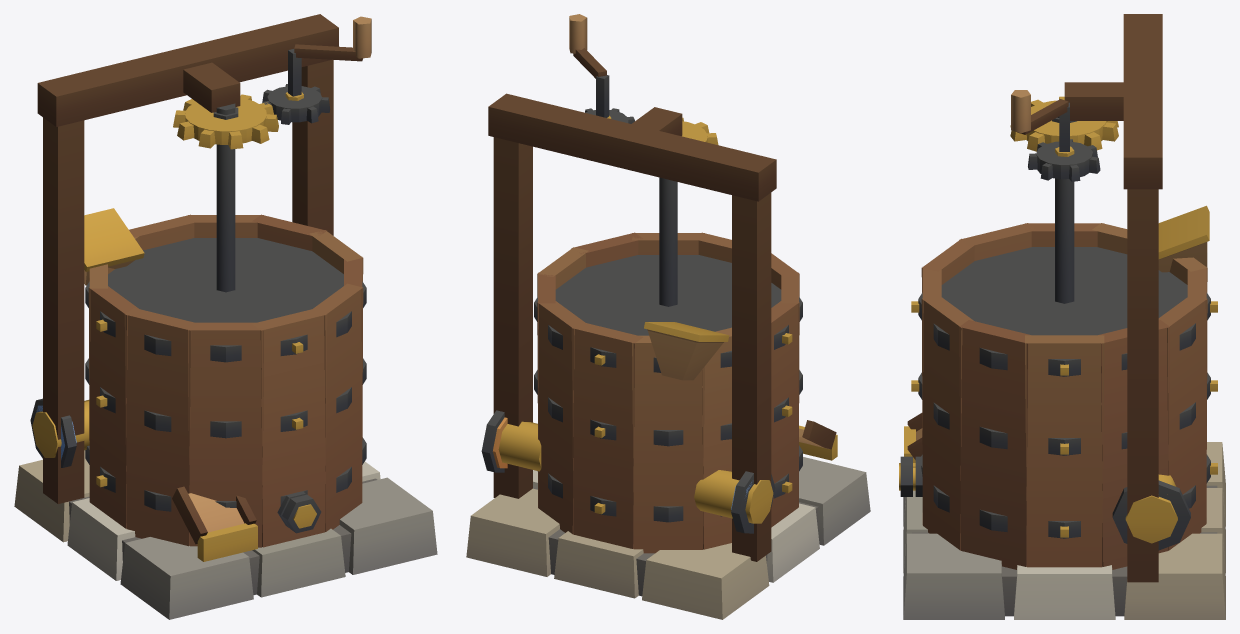
The model's file is mach_mixer.glb.
3 views of the same model, side by side, from view 1: azimuth 30°, elevation 25°; view 2: azimuth 150°, elevation 25°; view 3: azimuth 270°, elevation 25° (orthographic). The views are drawn at different scales.
Visible parts, largest first — view 1: mach_mixer; view 2: mach_mixer; view 3: mach_mixer.
Boxes of the visible parts, x1,y1,x2,y2 form: mach_mixer: (14,14,437,619); mach_mixer: (466,14,870,619); mach_mixer: (899,14,1225,619).
Bounding box in the file's own units: 3.9 × 6.55 × 3.75.
Materials: 1 (1 with a texture image).
